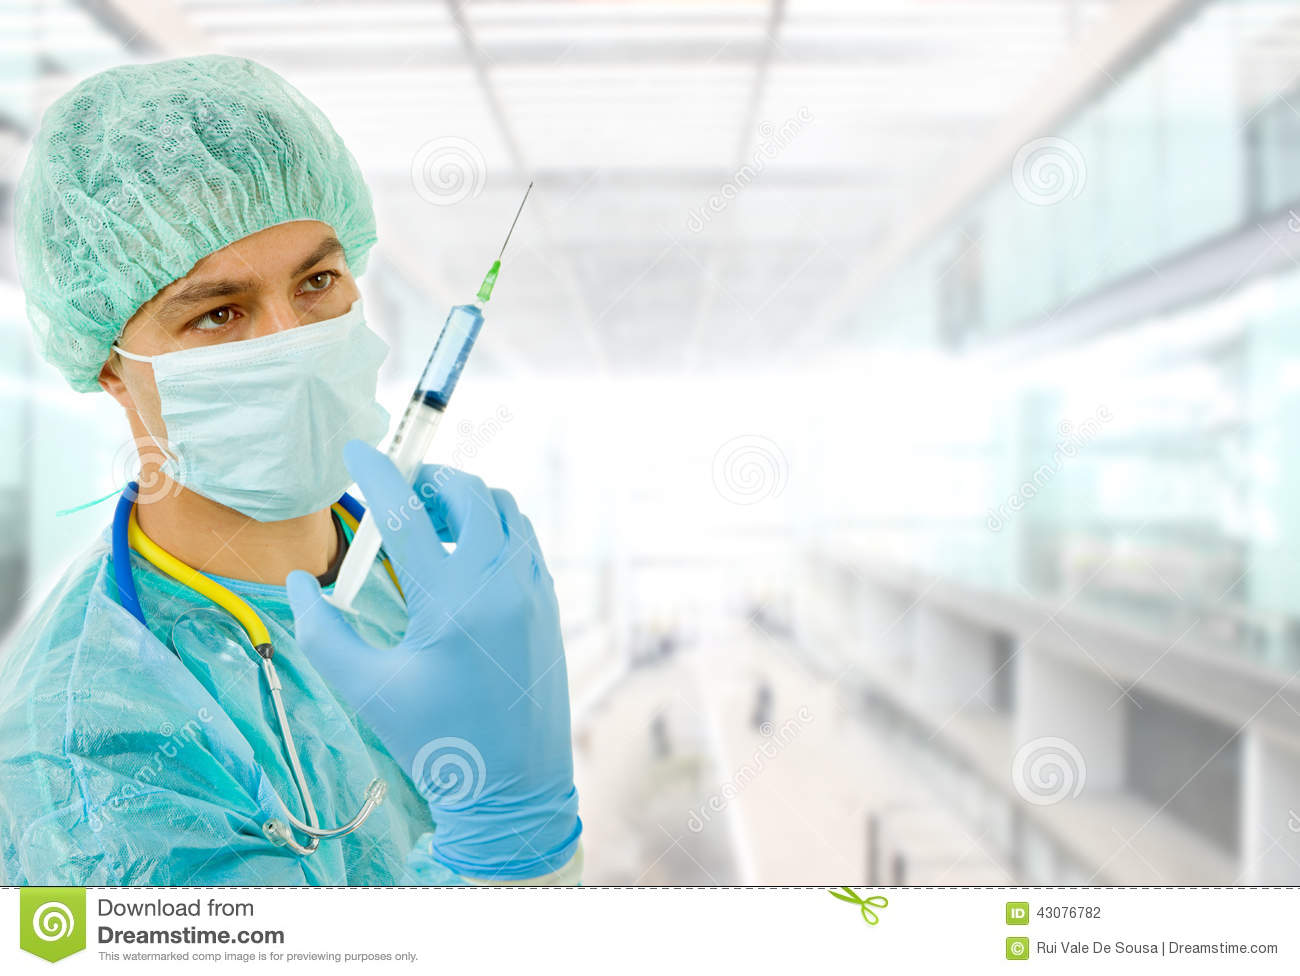mask: (141, 297, 393, 495)
